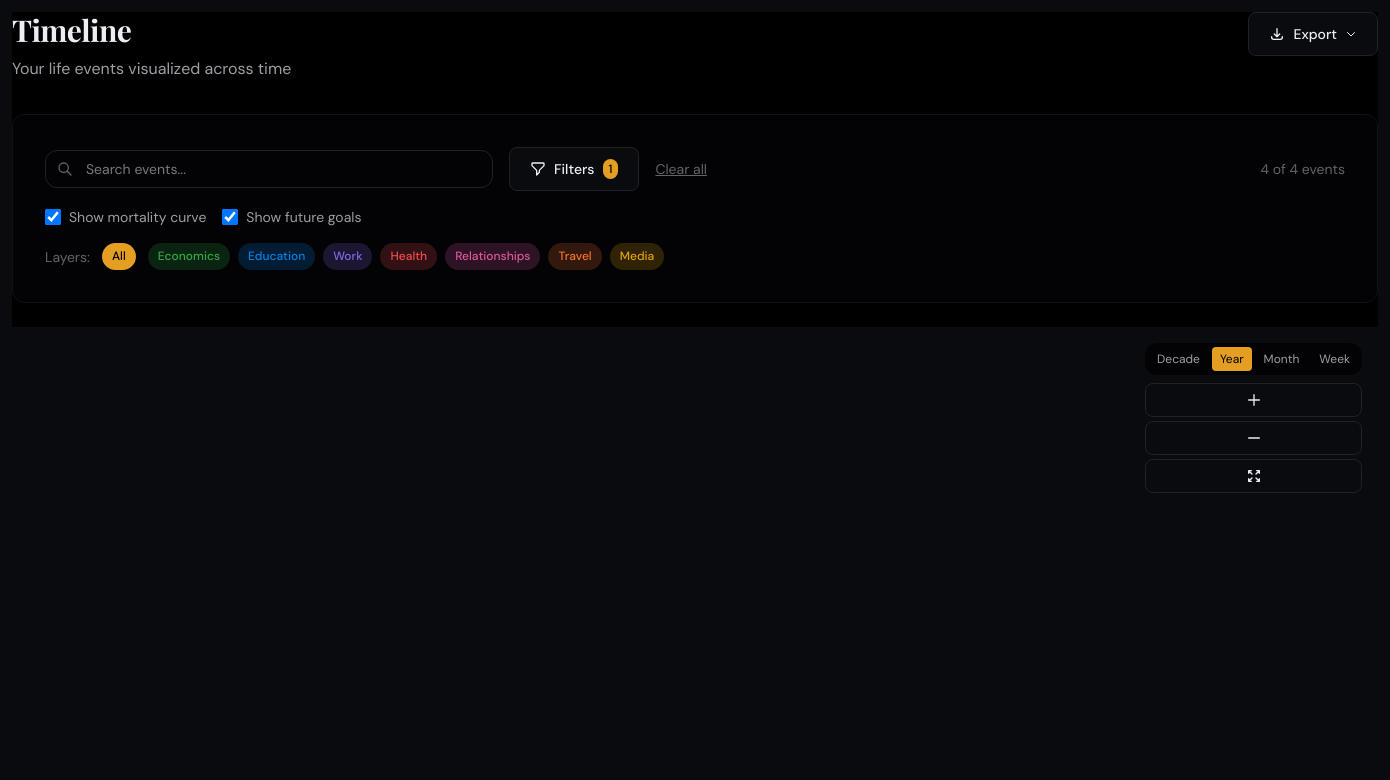
Test case: TimelineView › Advanced Filters › expands advanced filters when toggle clicked
Click the button "Filters 1" at (574, 169), box [509,147,639,191]
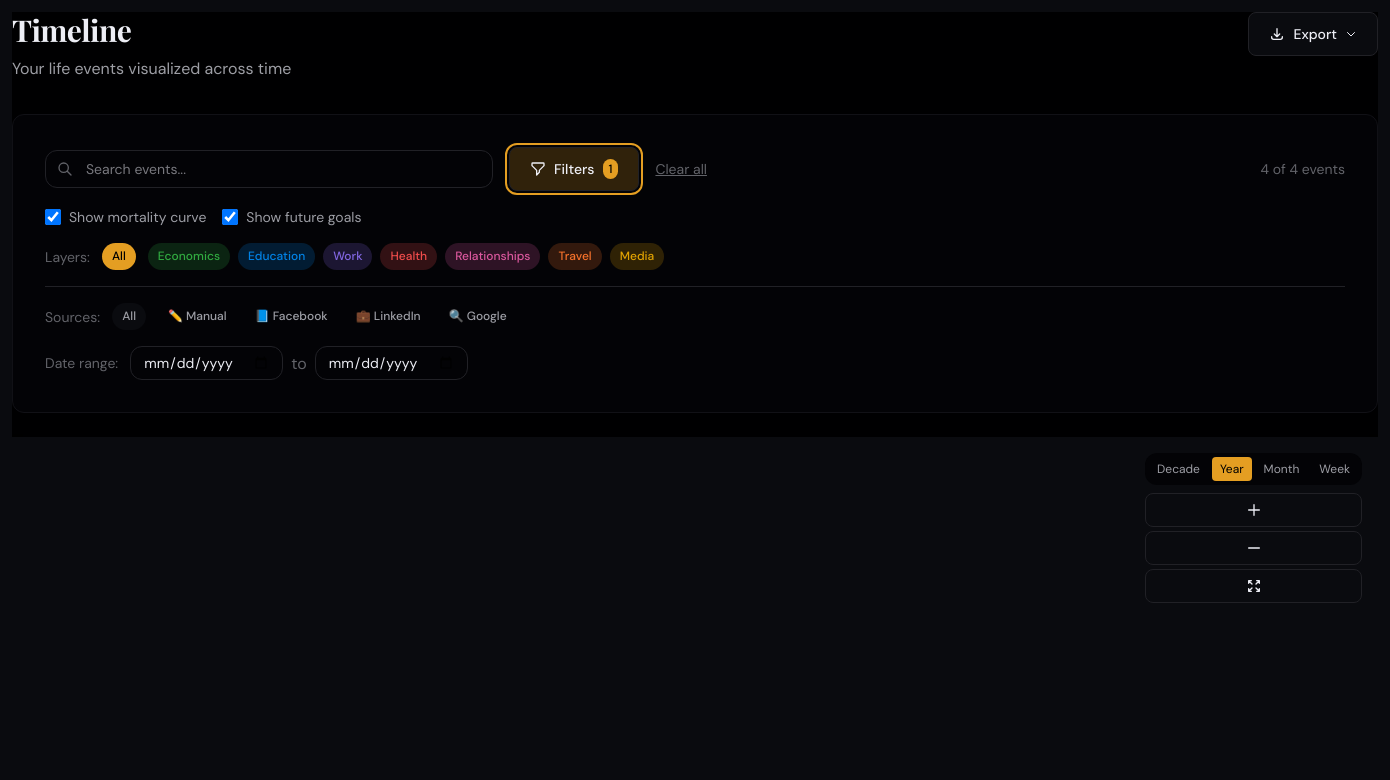
Now the text "Sources:" is shown, box [45,307,100,327]
Now the text "Date range:" is shown, box [45,353,118,373]
